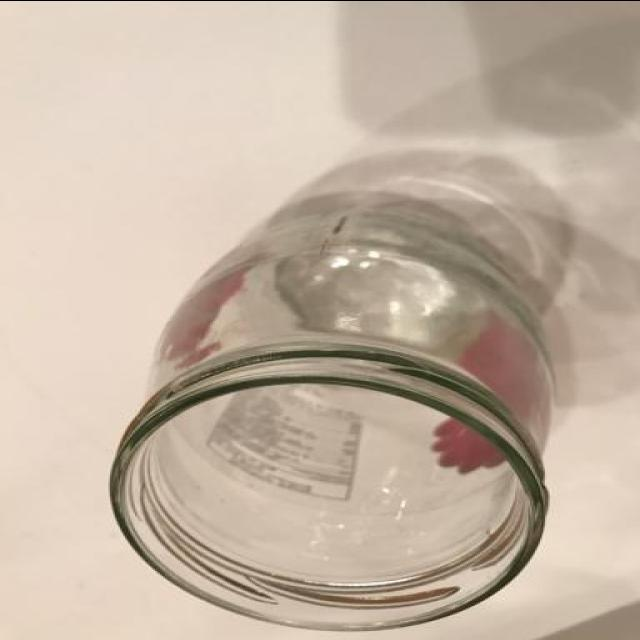glass: (78, 145, 605, 640)
